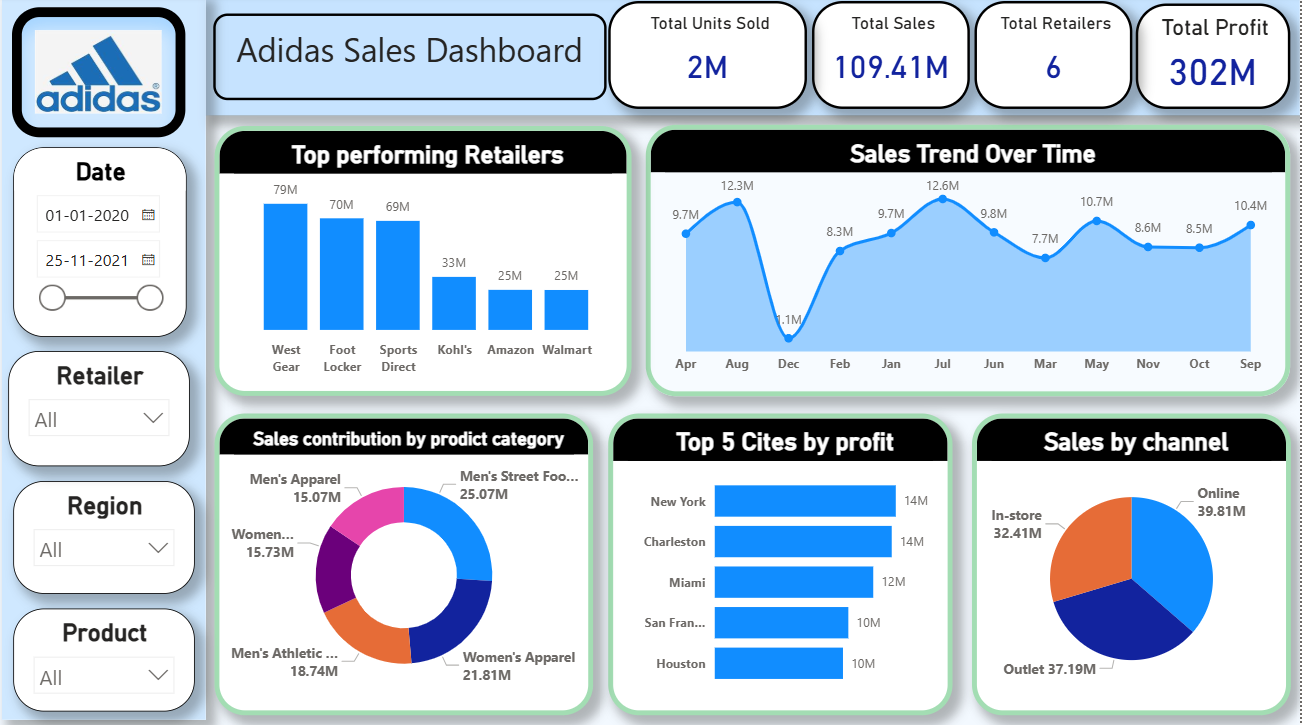

The dashboard page shown, as its layout file describes it:
{"tool":"powerbi","page":{"name":"Adidas Sales Dashboard","canvas":[1280,720],"ordinal":0},"visuals":[{"type":"textbox","box":[209.4,0,1070.8,117.2],"z":0},{"type":"textbox","box":[9.4,0,199.2,708.1],"z":1000},{"type":"card","title":"Total Sales","fields":{"Values":["Data Sales Adidas.Total Sales1"]},"box":[802,5,154.6,106],"z":2000},{"type":"card","title":"Total Units Sold","fields":{"Values":["Sum(Data Sales Adidas.Units Sold)"]},"box":[603.4,5,194.5,106],"z":3000},{"type":"card","title":"Total Profit","fields":{"Values":["Data Sales Adidas.Total profit"]},"box":[1119.4,7.5,150.8,103.5],"z":4000},{"type":"barChart","title":"Top 5 Cites by profit","fields":{"Category":["Data Sales Adidas.City"],"Y":["Sum(Data Sales Adidas.Operating Profit)"]},"box":[603.4,408.9,336.6,295.4],"z":5000},{"type":"donutChart","title":"Sales contribution by prodict category","fields":{"Category":["Data Sales Adidas.Product"],"Y":["Sum(Data Sales Adidas.Total Sales)"]},"box":[218.2,408.9,370.2,295.4],"z":6000},{"type":"slicer","title":"Date","fields":{"Values":["Data Sales Adidas.Invoice Date"]},"box":[20.2,148.1,169.6,185.8],"z":7000},{"type":"slicer","title":"Region","fields":{"Values":["Data Sales Adidas.Region"]},"box":[20.2,474.8,177.7,110.4],"z":8000},{"type":"slicer","title":"Product","fields":{"Values":["Data Sales Adidas.Product"]},"box":[20.2,599.1,177.7,101],"z":9000},{"type":"slicer","title":"Retailer","fields":{"Values":["Data Sales Adidas.Retailer"]},"box":[16.2,347.8,177.7,113.1],"z":10000},{"type":"image","box":[19.9,11.2,169.5,127.2],"z":11000},{"type":"areaChart","title":"Sales Trend Over Time","fields":{"Category":["Data Sales Adidas.Invoice Date.Variation.Date Hierarchy.Year","Data Sales Adidas.Invoice Date.Variation.Date Hierarchy.Quarter","Data Sales Adidas.Invoice Date.Variation.Date Hierarchy.Day","Data Sales Adidas.short month name"],"Y":["Sum(Data Sales Adidas.Total Sales)"]},"box":[639.5,125.9,630.8,265.5],"z":12000},{"type":"textbox","box":[216,17,385.2,84.8],"z":13000},{"type":"clusteredColumnChart","title":"Top performing Retailers ","fields":{"Category":["Data Sales Adidas.Retailer"],"Y":["Sum(Data Sales Adidas.Operating Profit)"]},"box":[218.2,127.2,407.6,264.3],"z":14000},{"type":"pieChart","title":"Sales by channel ","fields":{"Category":["Data Sales Adidas.Sales Method"],"Y":["Data Sales Adidas.Sum of Total sales"]},"box":[958.6,408.9,311.6,295.4],"z":15000},{"type":"card","title":"Total Retailers","fields":{"Values":["Data Sales Adidas.Total Retailers1"]},"box":[960.7,5,154.6,106],"z":16000}]}

Visuals, with their boxes in screenshot pixels (x1, y1, x2, y2), scaled from the page's 1280x720 canvas onto the 1302x725 screenshot:
textbox: region(213, 0, 1301, 118)
textbox: region(10, 0, 212, 713)
"Total Sales" card: region(816, 5, 973, 112)
"Total Units Sold" card: region(614, 5, 812, 112)
"Total Profit" card: region(1139, 8, 1292, 112)
"Top 5 Cites by profit" barChart: region(614, 412, 956, 709)
"Sales contribution by prodict category" donutChart: region(222, 412, 599, 709)
"Date" slicer: region(21, 149, 193, 336)
"Region" slicer: region(21, 478, 201, 589)
"Product" slicer: region(21, 603, 201, 705)
"Retailer" slicer: region(16, 350, 197, 464)
image: region(20, 11, 193, 139)
"Sales Trend Over Time" areaChart: region(650, 127, 1292, 394)
textbox: region(220, 17, 612, 103)
"Top performing Retailers " clusteredColumnChart: region(222, 128, 637, 394)
"Sales by channel " pieChart: region(975, 412, 1292, 709)
"Total Retailers" card: region(977, 5, 1134, 112)
